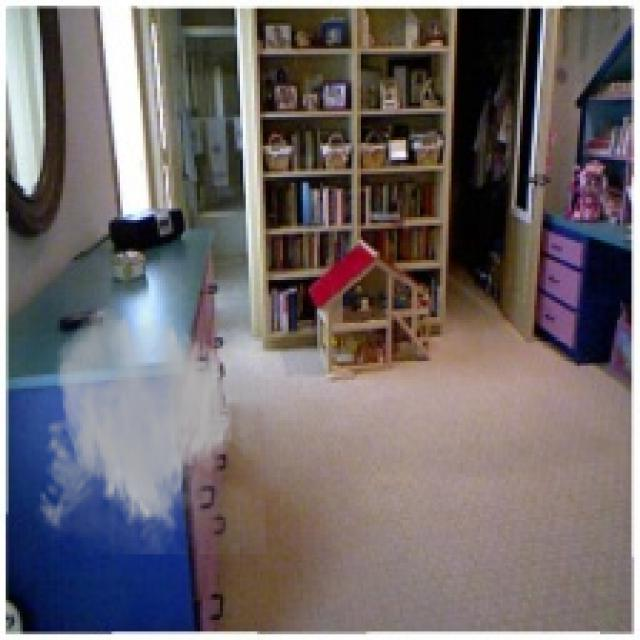smoke: (31, 303, 266, 554)
